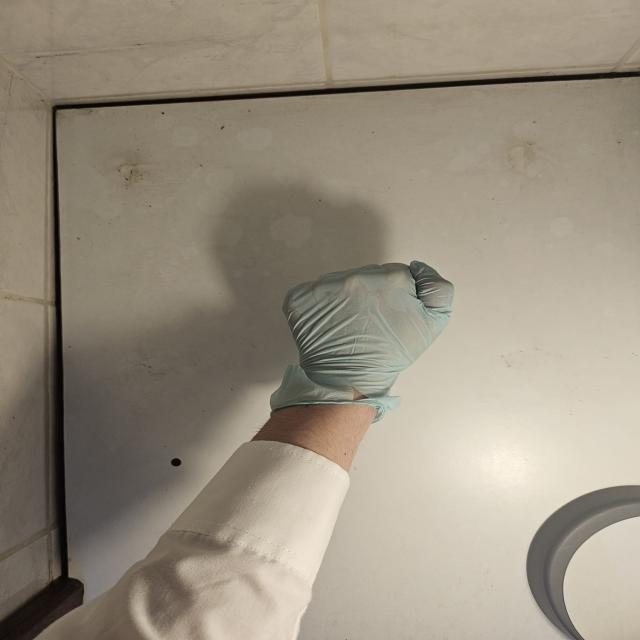gloves_damaged: (273, 261, 460, 423)
